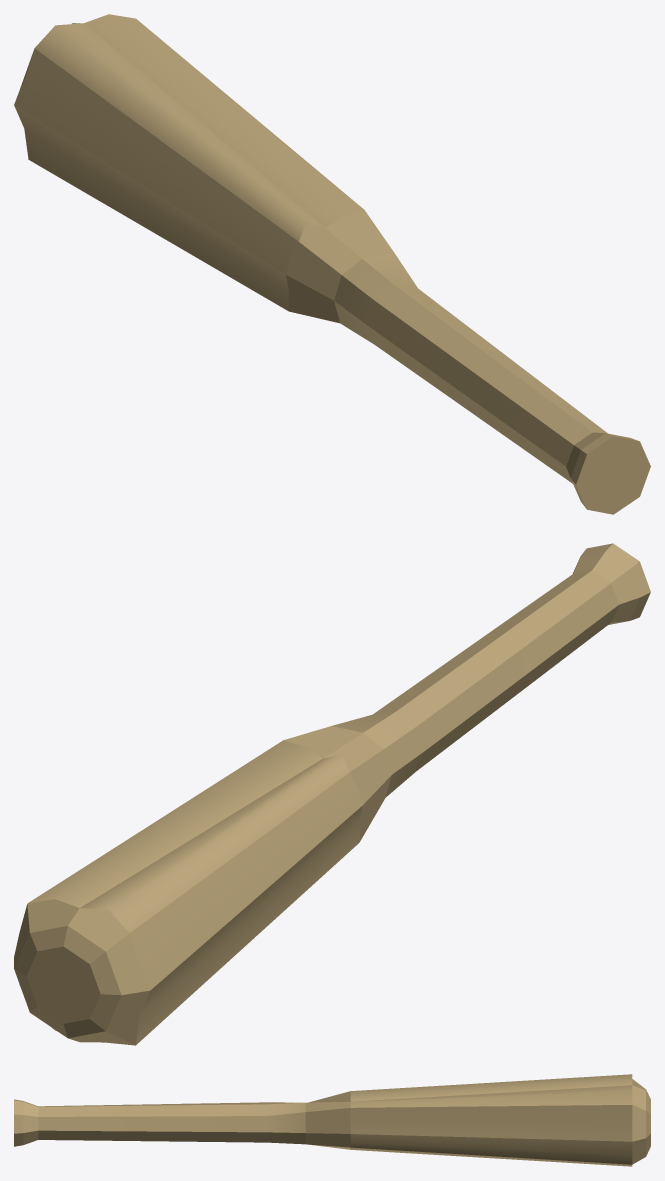
Rendered from club.fbx.
3 renders of one model, top to bottom at view 1: azimuth 30°, elevation 25°; view 2: azimuth 150°, elevation 25°; view 3: azimuth 270°, elevation 25°, orthographic. The views are drawn at different scales.
Visible parts, largest first — view 1: pCylinder1; view 2: pCylinder1; view 3: pCylinder1.
Part boxes in pixels (x1=…): pCylinder1: x1=14, y1=14, x2=650, y2=514; pCylinder1: x1=14, y1=543, x2=650, y2=1045; pCylinder1: x1=14, y1=1074, x2=650, y2=1166.
Size of the model in its own units: 5.09 by 4.96 by 35.54.
